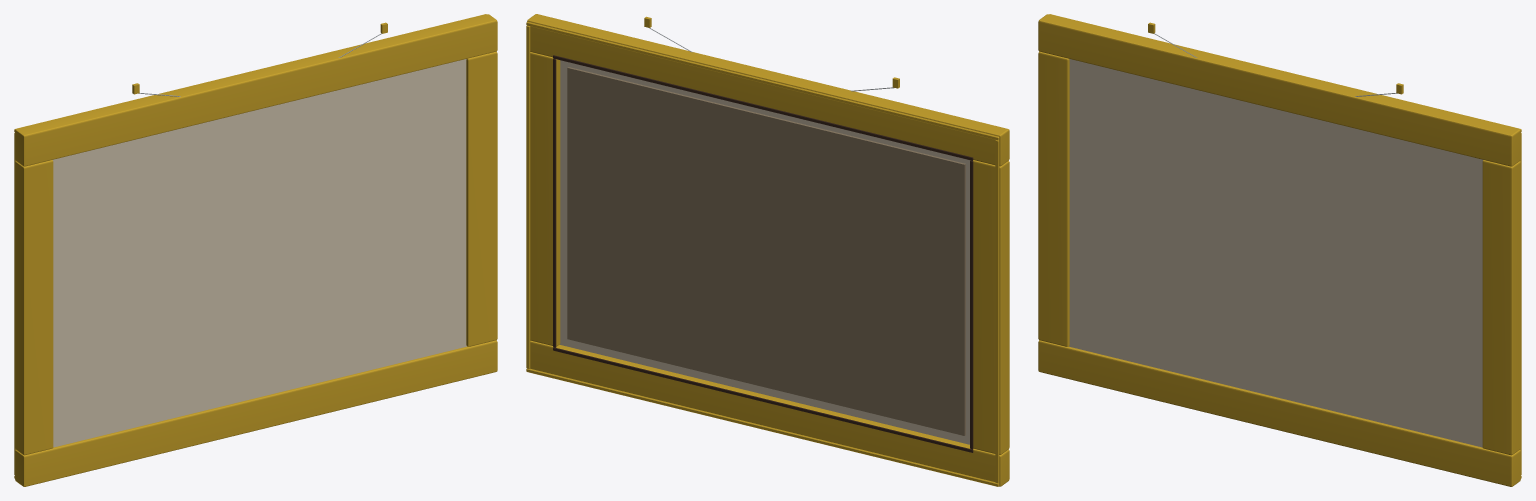
Rendered from prop_canvas_orchard.glb.
3 views of the same model, side by side, from view 1: azimuth 30°, elevation 25°; view 2: azimuth 150°, elevation 25°; view 3: azimuth 330°, elevation 25° (orthographic).
Parts seen in each view (by area): view 1: Canvas; view 2: Canvas; view 3: Canvas.
Part boxes in pixels (x1,y1,x2,y2): Canvas: [14, 14, 497, 486]; Canvas: [526, 14, 1009, 486]; Canvas: [1038, 14, 1521, 486].
Bounding box in the file's own units: 1.72 × 1.3 × 0.068.
